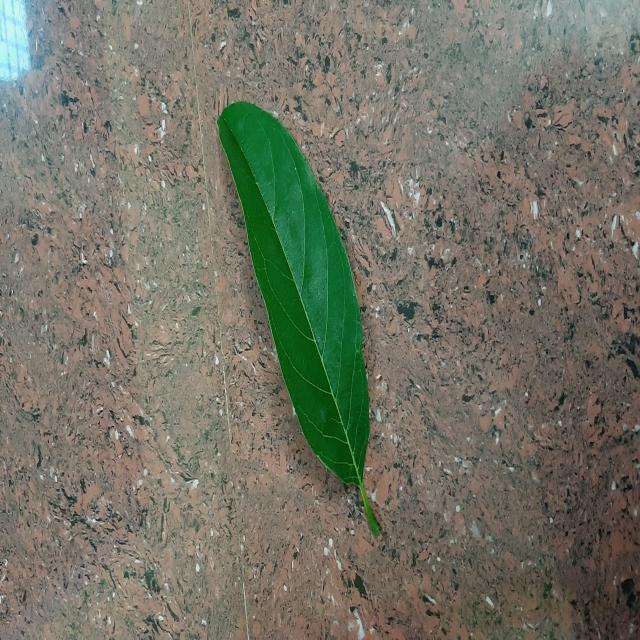seethaphala: (218, 103, 379, 534)
